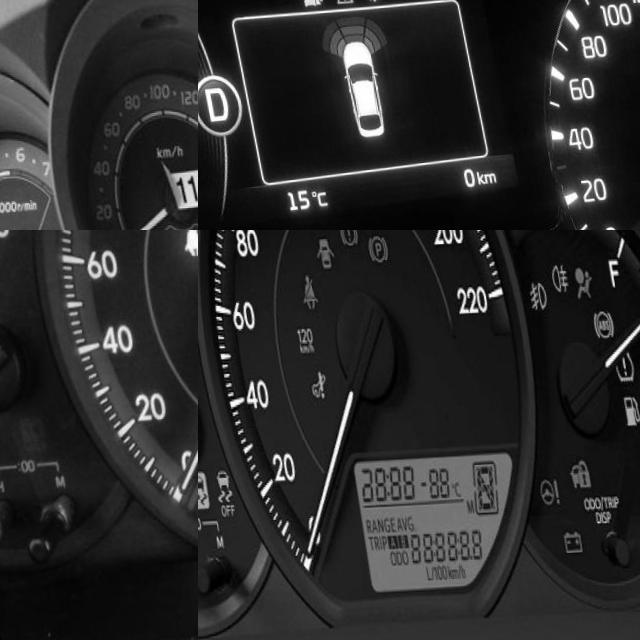Central Warning lamp: (326, 0, 347, 7)
Electronic Power Steering: (524, 485, 545, 511)
Seat Belt: (174, 230, 198, 259), (292, 278, 310, 313)
